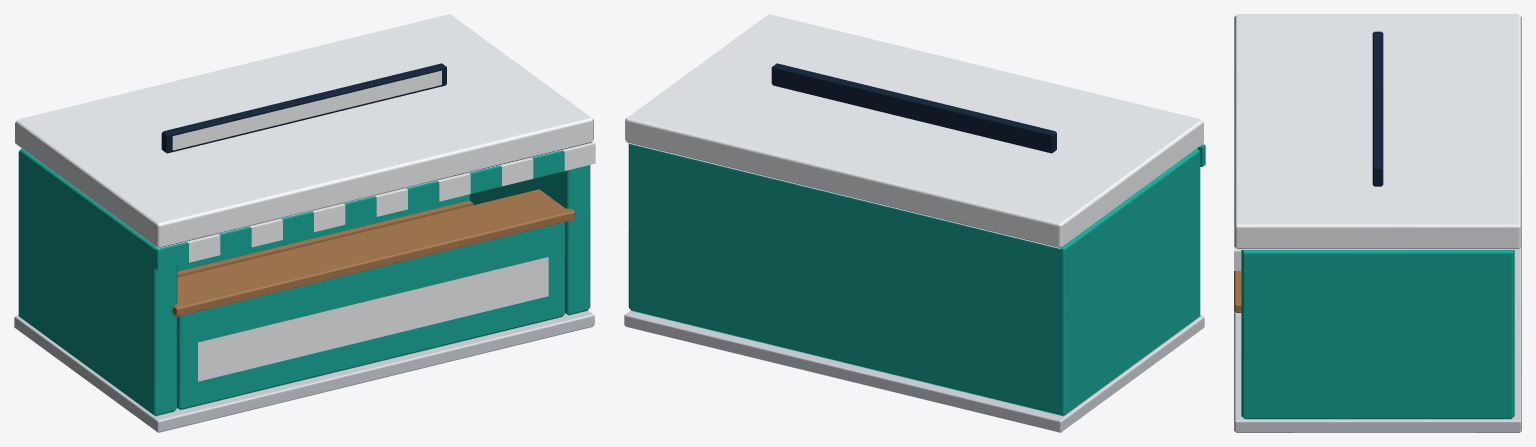
Rendered from CM_Prop_PlazaKiosk_Teal.fbx.
3 renders of one model, left to right at view 1: azimuth 30°, elevation 25°; view 2: azimuth 150°, elevation 25°; view 3: azimuth 270°, elevation 25°, orthographic.
Parts seen in each view (by area): view 1: Body, Face; view 2: Body, Face; view 3: Body, Face.
Boxes of the visible parts, x1,y1,x2,y2 form: Body: (14, 14, 595, 432); Face: (161, 63, 446, 153); Body: (624, 14, 1205, 432); Face: (771, 63, 1056, 153); Body: (1234, 14, 1521, 432); Face: (1372, 31, 1383, 186).
Bounding box in the file's own units: 14 × 8 × 7.
Materials: 1 (1 with a texture image).
